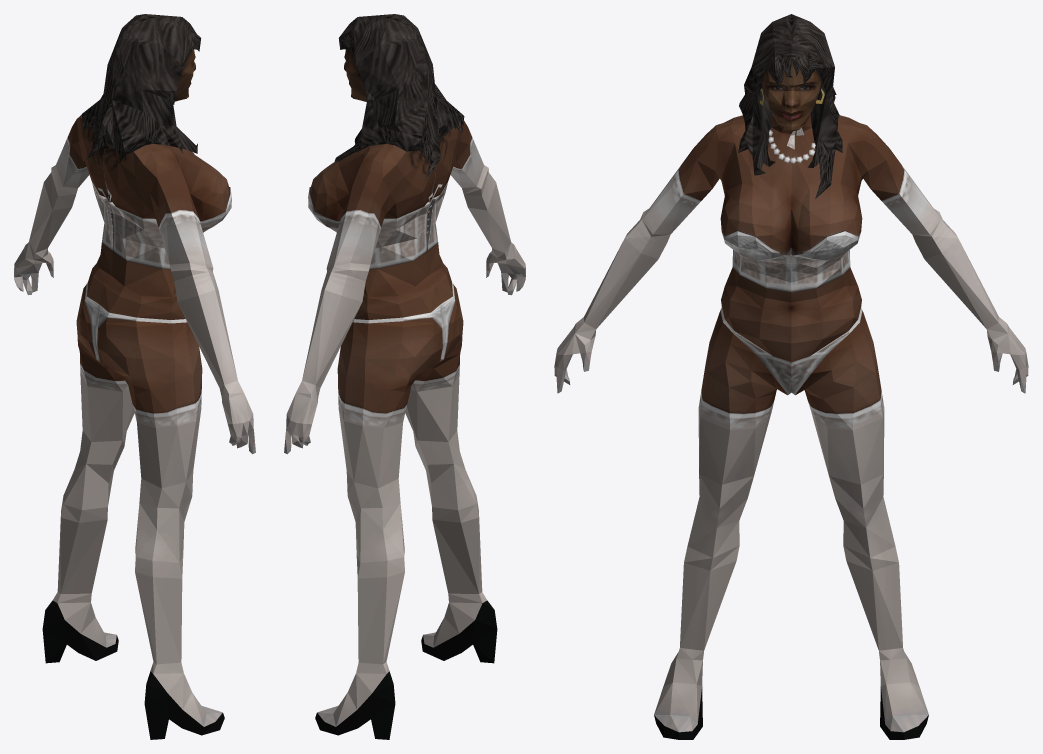
Rendered from vbfyst2.obj.
3 renders of one model, left to right at view 1: azimuth 30°, elevation 25°; view 2: azimuth 150°, elevation 25°; view 3: azimuth 270°, elevation 25°, orthographic. The views are drawn at different scales.
Visible parts, largest first — view 1: _Pelvis; view 2: _Pelvis; view 3: _Pelvis.
Boxes of the visible parts, bbox=[...] form: _Pelvis: bbox=[14, 14, 255, 739]; _Pelvis: bbox=[284, 14, 525, 739]; _Pelvis: bbox=[554, 14, 1028, 739].
Bounding box in the file's own units: 0.331 × 1.76 × 1.06.
1 material, 1 textured.
